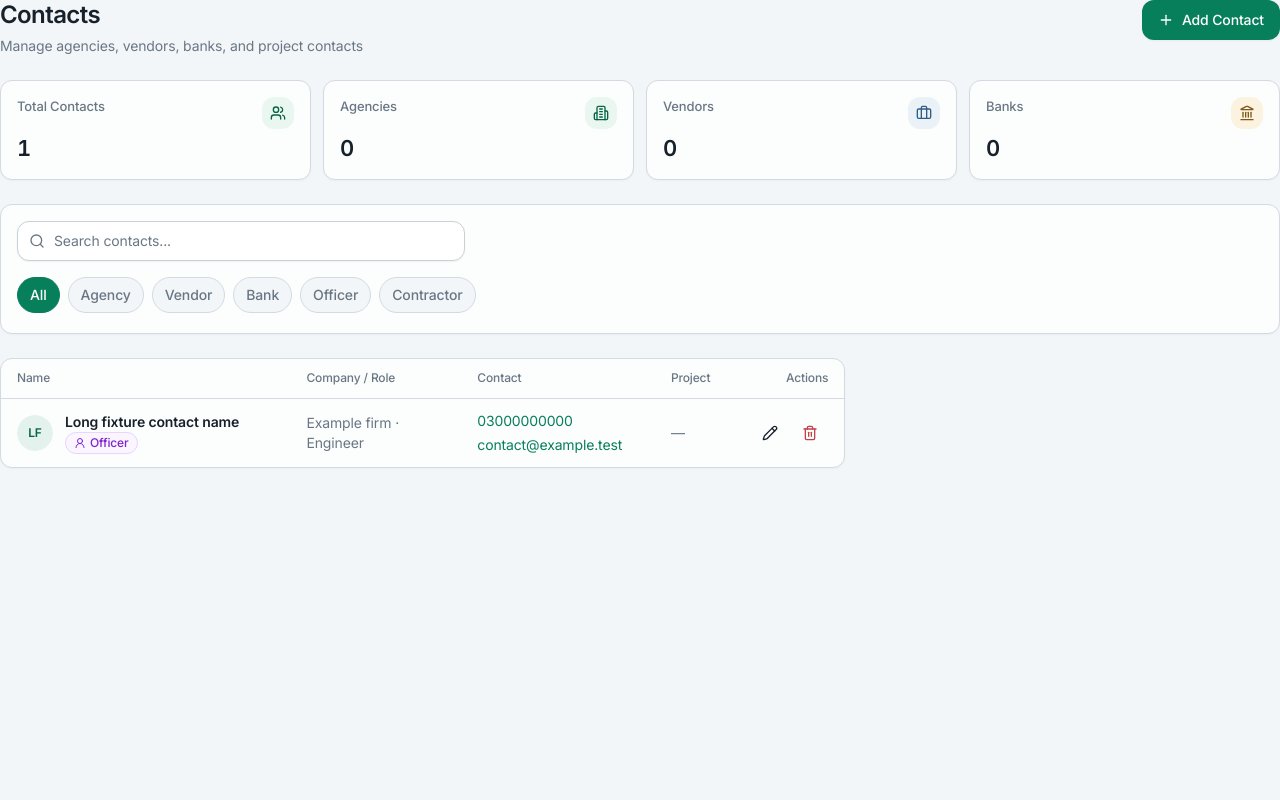
Test: Contacts with disposable records › preserves entered values on failed save and asks before discarding
Click the button named "Edit contact": {"x": 770, "y": 433} [752,415,788,451]
(page scrolled)
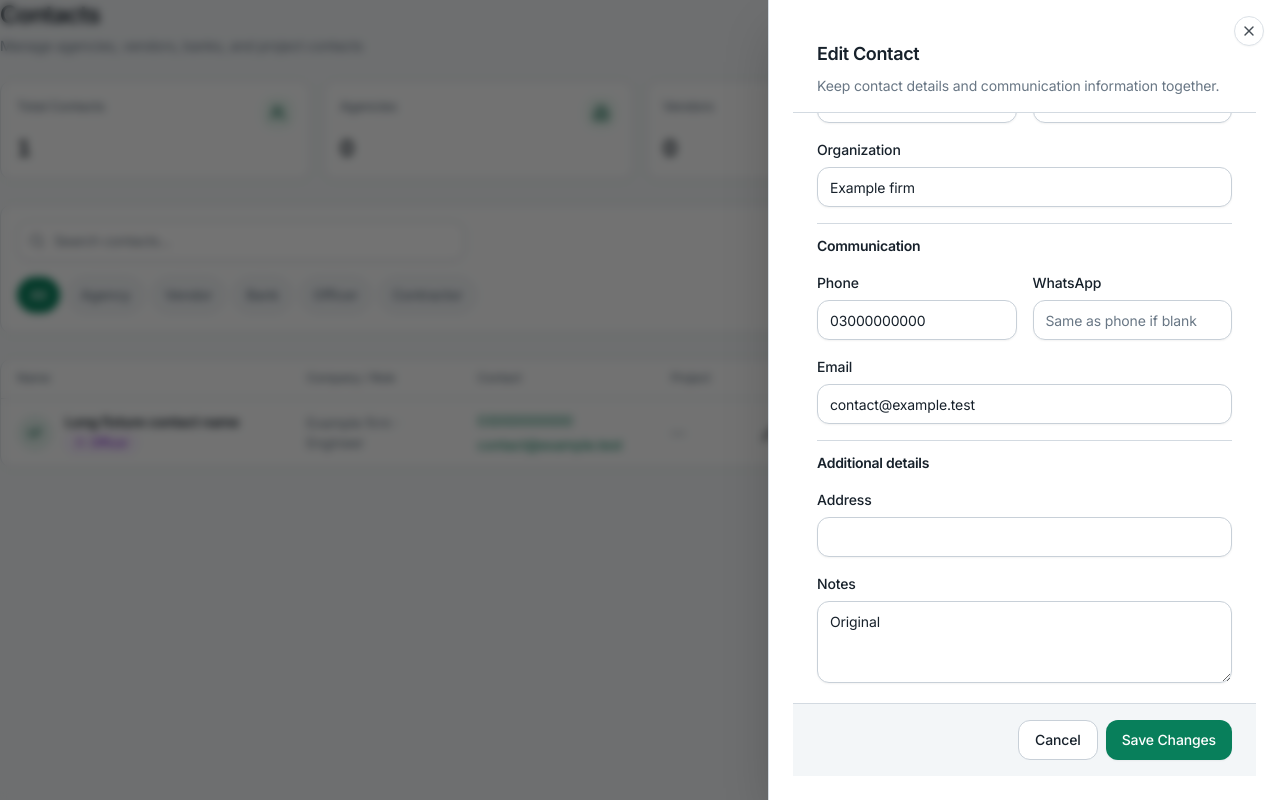
In the text box labelled "Notes": {"x": 1024, "y": 642} [817,601,1232,683], type " changed"
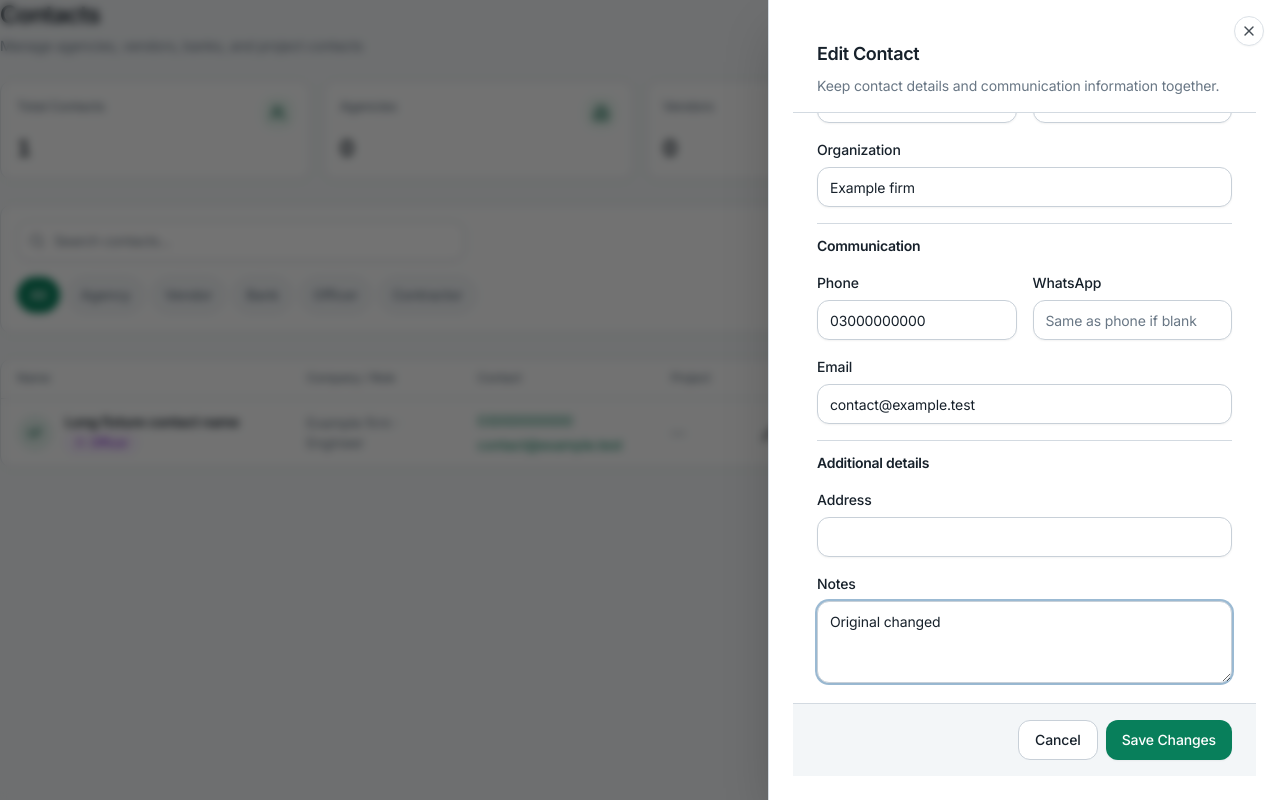
Click the button "Save Changes": {"x": 1169, "y": 740} [1106,720,1232,760]
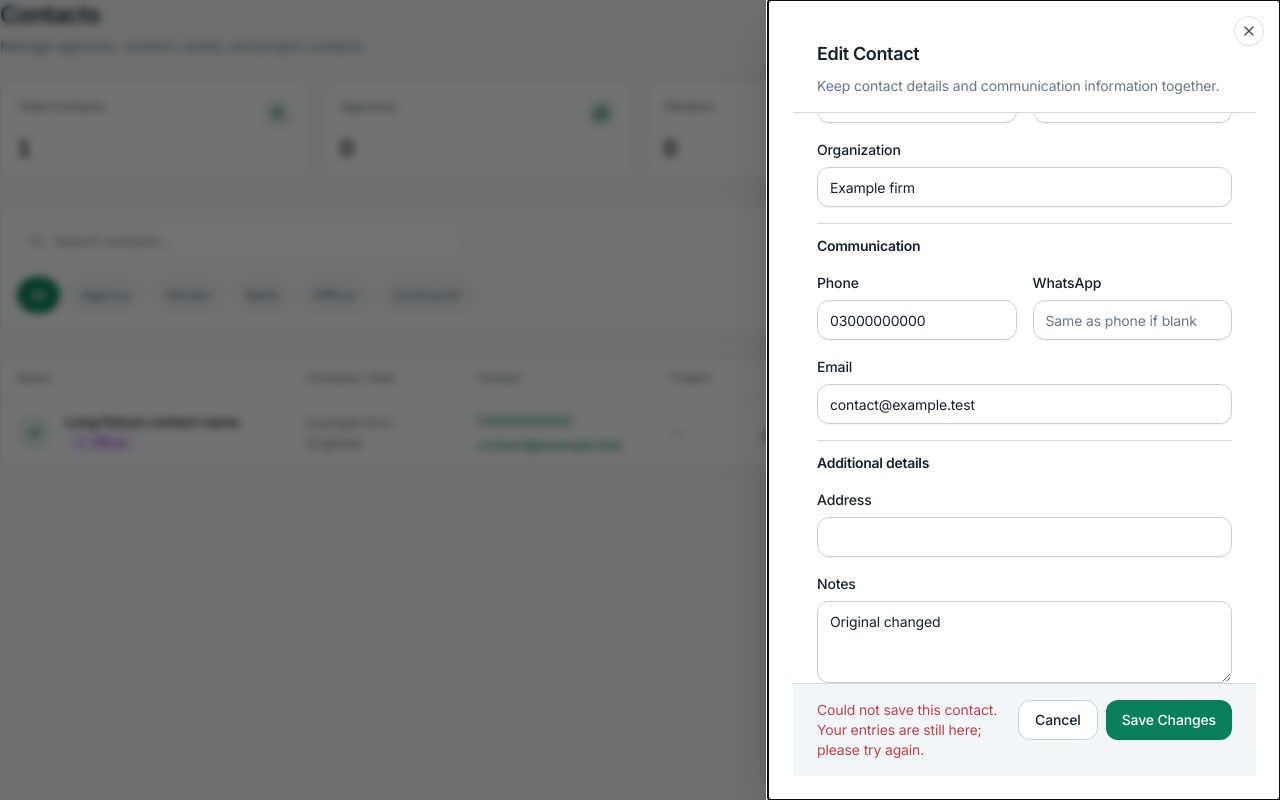
Expected: the text box labelled "Notes" holds "Original changed", [817,601,1232,683]
Expected: the message shows "Your entries are still here", [817,701,997,758]
Click the button "Cancel": {"x": 1058, "y": 720} [1018,700,1098,740]
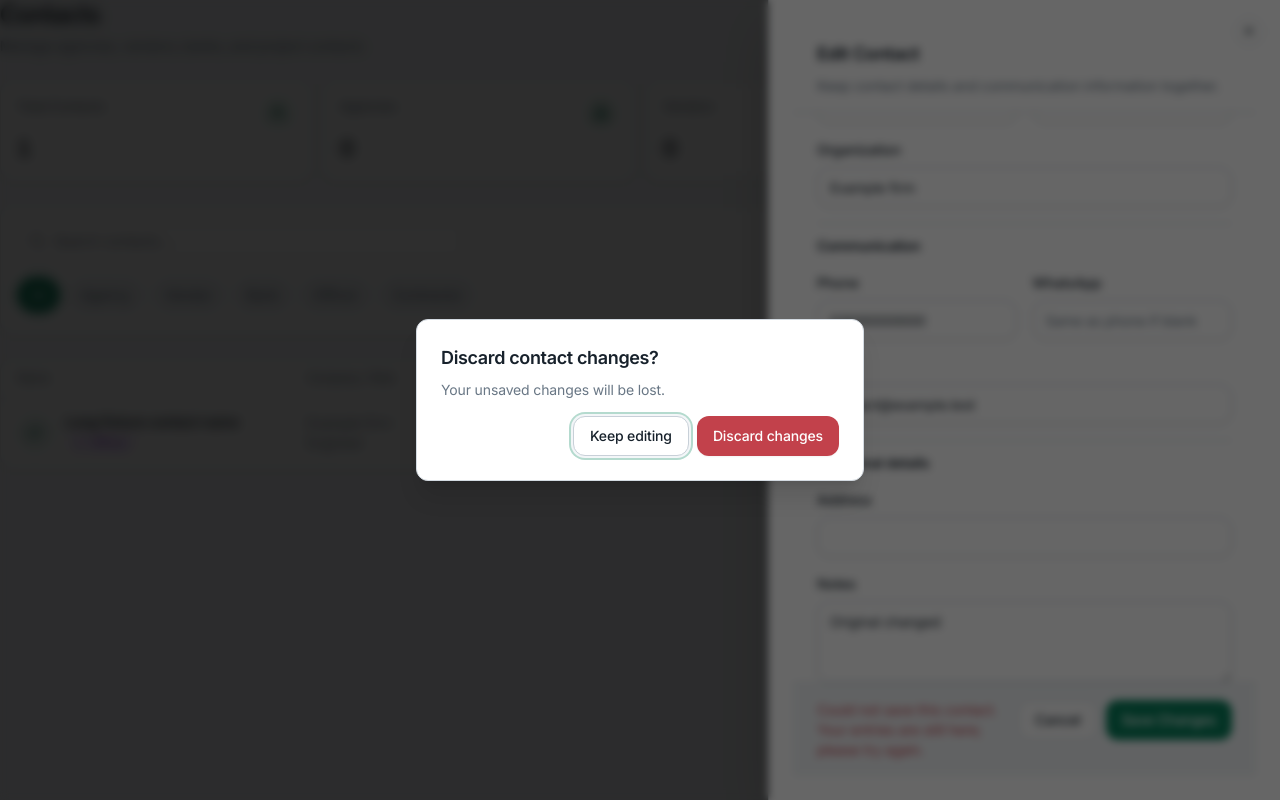
Expected: the dialog "Discard contact changes?" is shown, [416,319,864,481]
